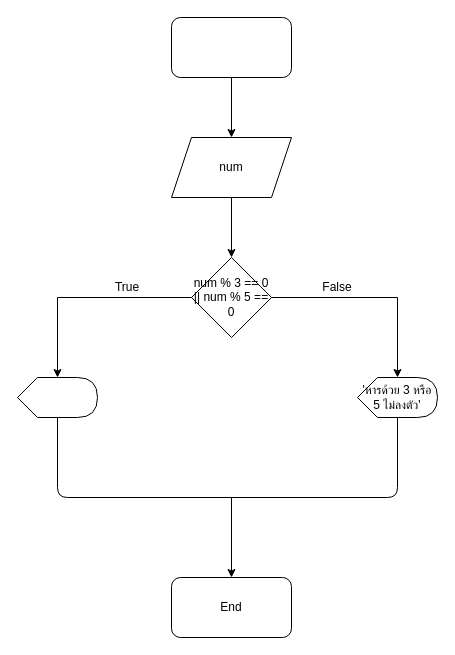
The diagram is 455 pixels wide and 655 high, and some of its shapes have lost their labels. The shapes that lost their labels are listed below. From the top down, each one's centre as x and y in pixels, then its label:
At pixel 231 47: "start".
At pixel 57 397: "'หารด้วย 3 หรือ 5 ลงตัว'".
